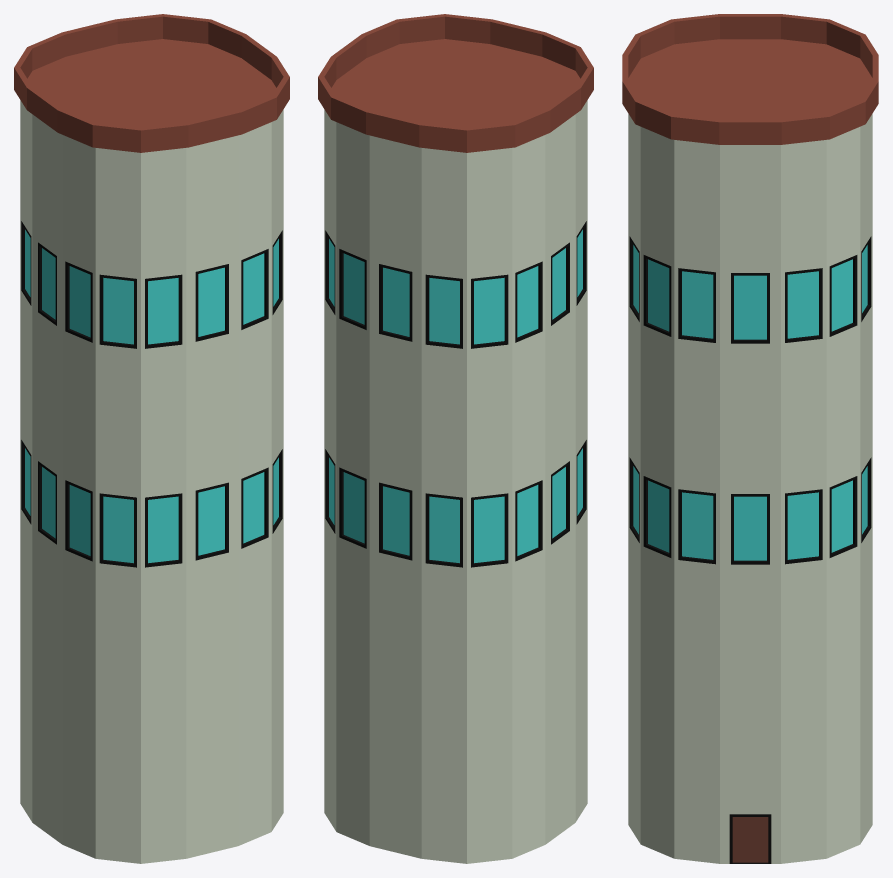
File: random res build 3.fbx
3 views of the same model, side by side, from view 1: azimuth 30°, elevation 25°; view 2: azimuth 150°, elevation 25°; view 3: azimuth 270°, elevation 25° (orthographic).
Parts seen in each view (by area): view 1: building_003; view 2: building_003; view 3: building_003.
Part boxes in pixels (x1,y1,x2,y2): building_003: [14, 14, 289, 863]; building_003: [318, 14, 593, 863]; building_003: [622, 14, 878, 863].
Bounding box in the file's own units: 4219 × 13524 × 4219.
